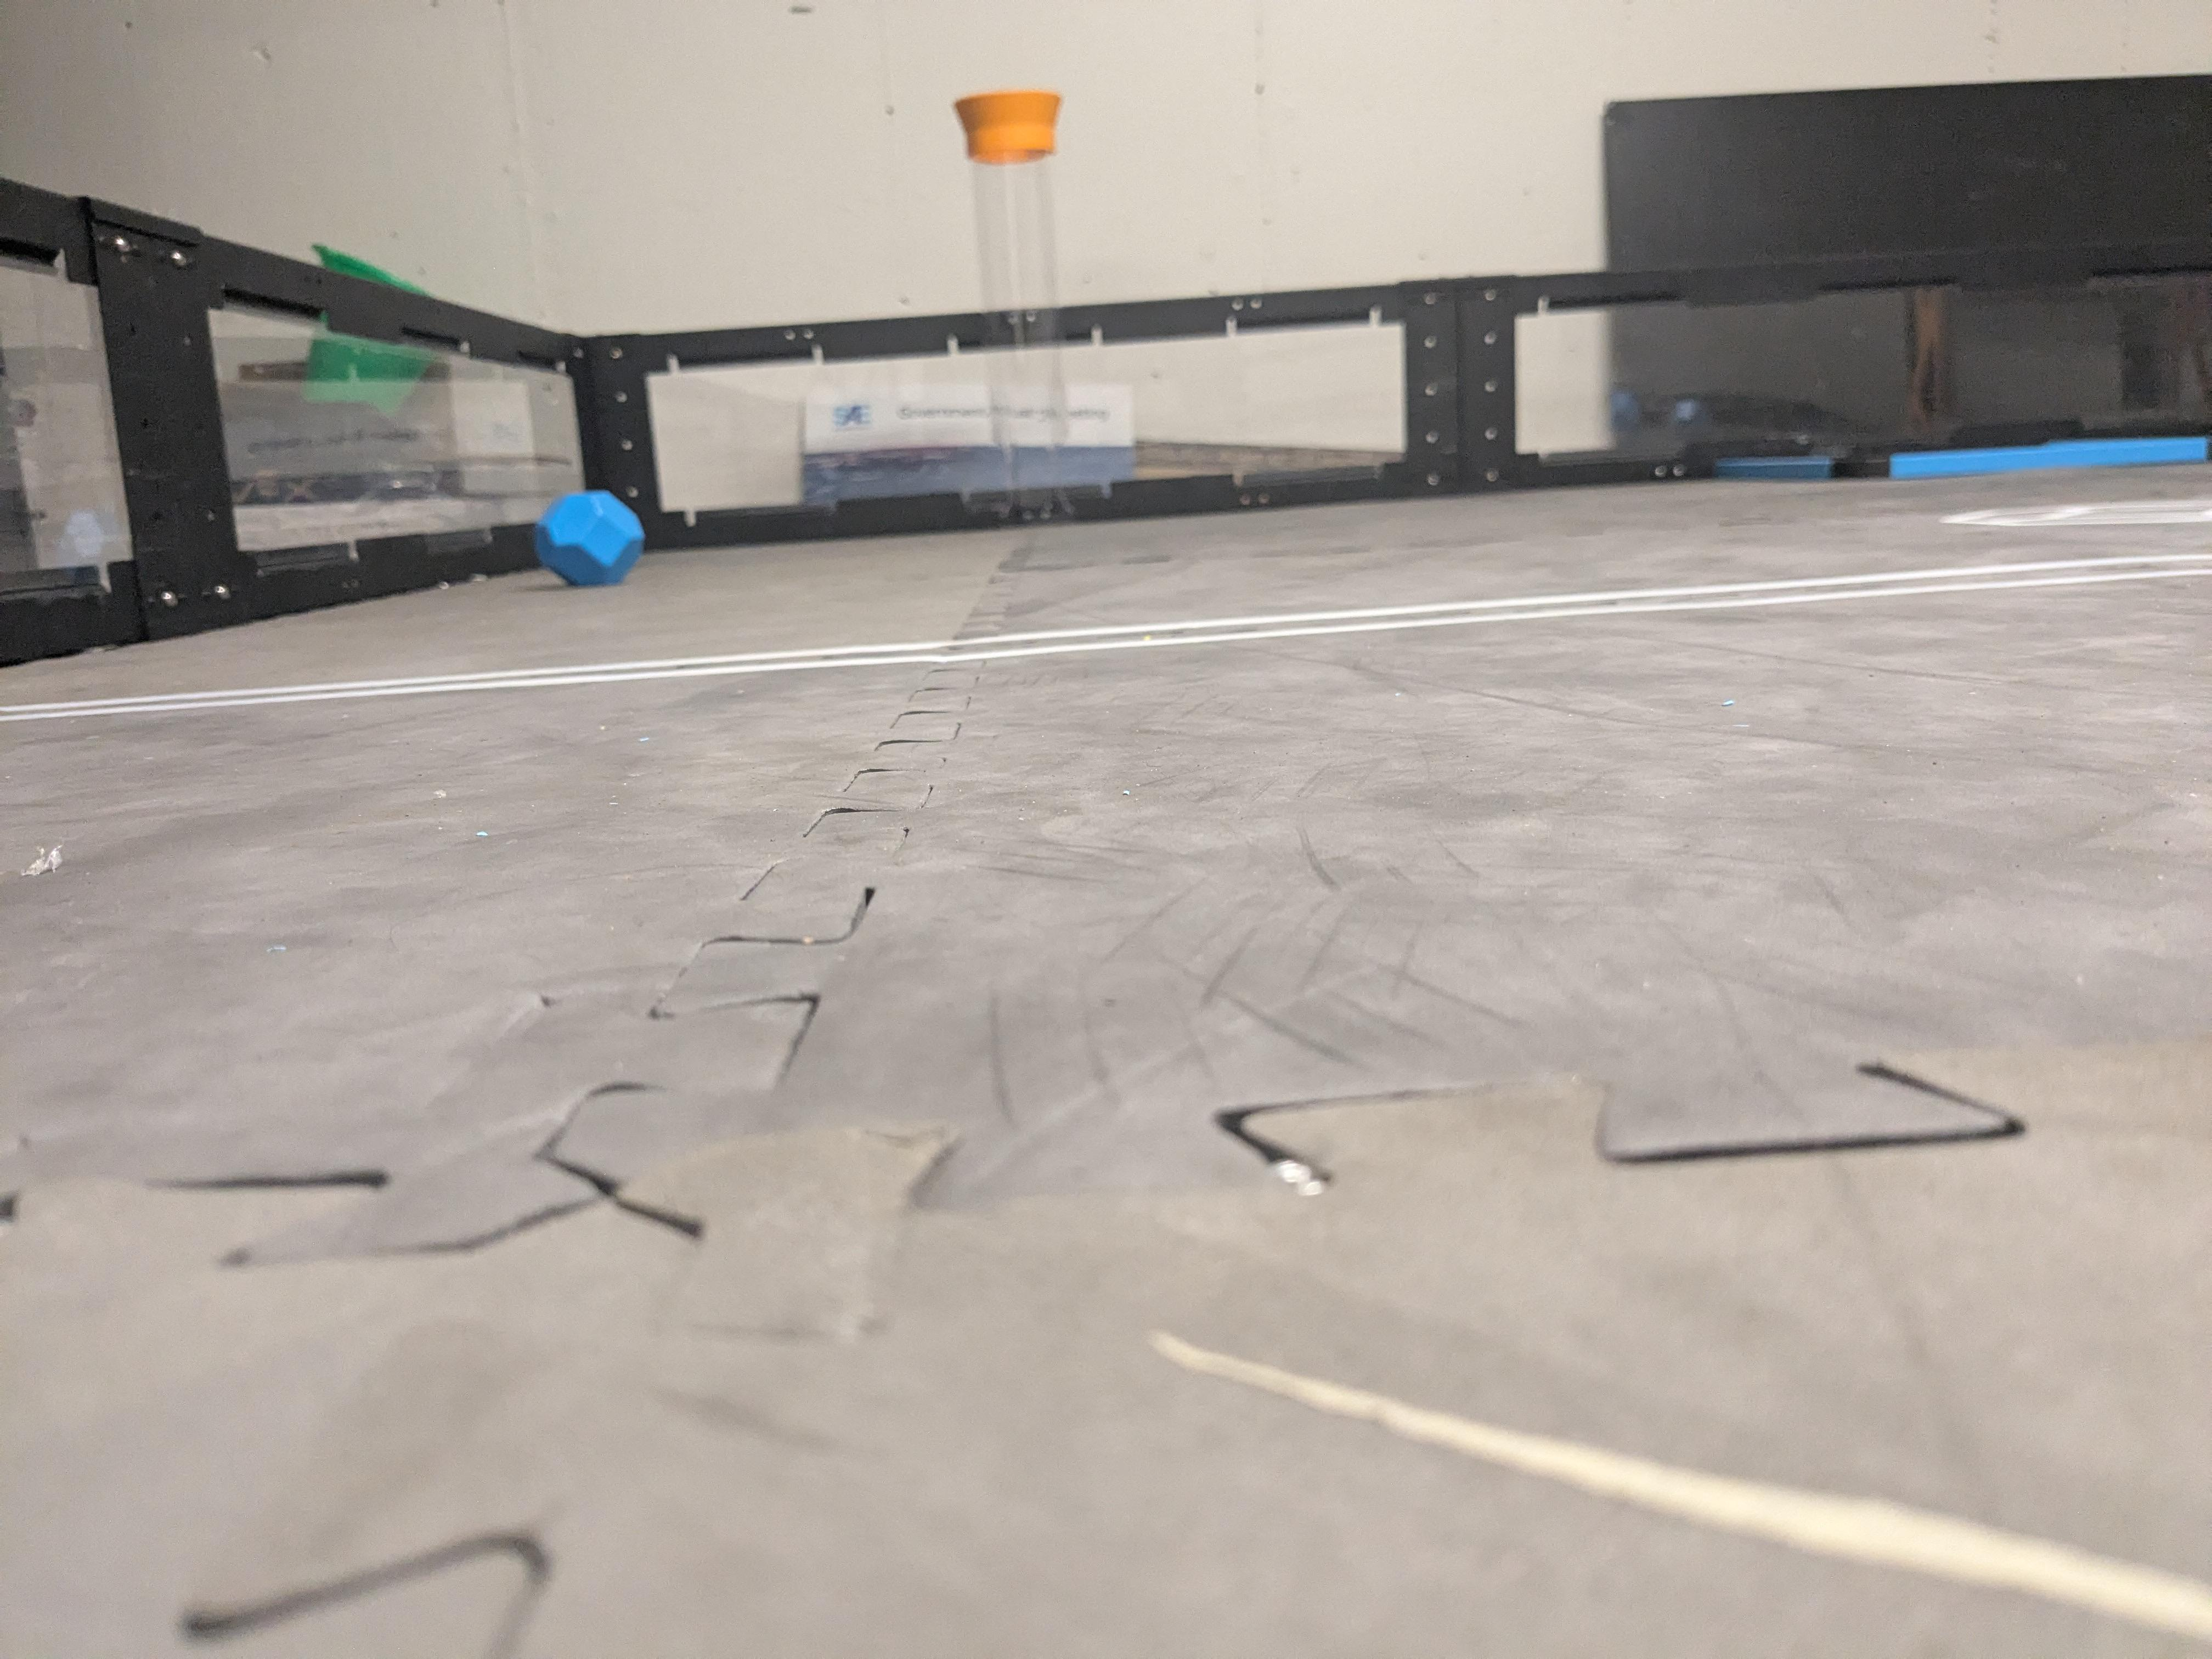Vex-Pieces-BLUE: (535, 495, 643, 587)
